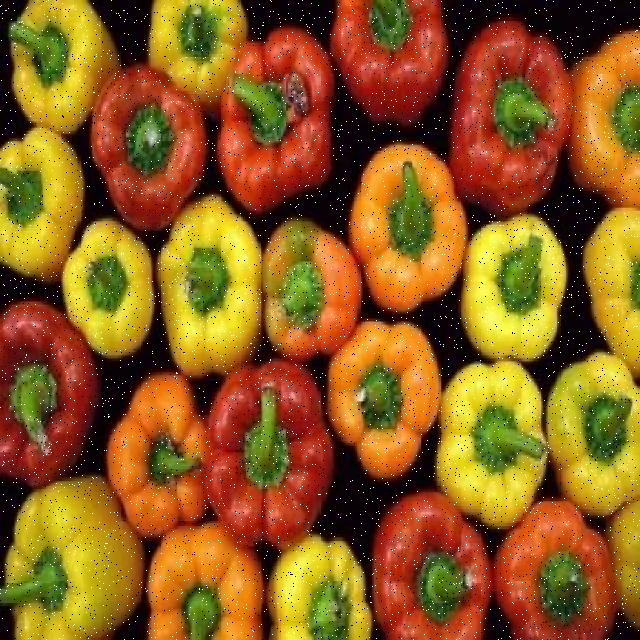Bell Pepper: (0, 463, 148, 639)
